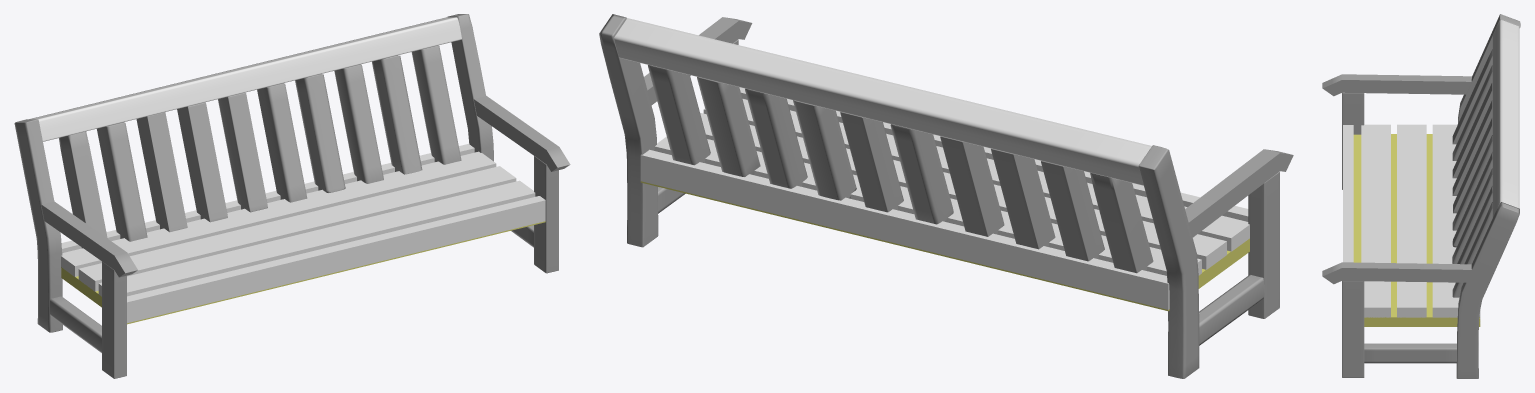
File: Banch.fbx
3 renders of one model, left to right at view 1: azimuth 30°, elevation 25°; view 2: azimuth 150°, elevation 25°; view 3: azimuth 270°, elevation 25°, orthographic. The views are drawn at different scales.
Parts seen in each view (by area): view 1: pCube31, pCube7, pCube6, pCube5, pCube3, pCube16, pCube30, pCube8, pCube4; view 2: pCube31, pCube8, pCube16, pCube3, pCube6, pCube5, pCube4, pCube7, pCube30; view 3: pCube31, pCube5, pCube6, pCube4, pCube3, pCube30, pCube16, pCube7.
Part boxes in pixels (box(x1,y1,x2,y2)): pCube31: box(14, 14, 558, 378); pCube7: box(127, 196, 545, 323); pCube6: box(98, 180, 535, 296); pCube5: box(78, 166, 516, 291); pCube3: box(61, 151, 496, 276); pCube16: box(41, 201, 137, 277); pCube30: box(474, 95, 570, 171); pCube8: box(61, 143, 474, 252); pCube4: box(61, 221, 545, 324); pCube31: box(599, 14, 1279, 378); pCube8: box(640, 149, 1169, 309); pCube16: box(1185, 149, 1293, 237); pCube3: box(654, 136, 1201, 275); pCube6: box(703, 99, 1249, 251); pCube5: box(700, 112, 1226, 269); pCube4: box(640, 181, 1249, 311); pCube7: box(739, 87, 1248, 221); pCube30: box(644, 17, 752, 105); pCube31: box(1342, 14, 1520, 378); pCube5: box(1397, 124, 1426, 317); pCube6: box(1361, 124, 1390, 317); pCube4: box(1353, 134, 1480, 326); pCube3: box(1432, 124, 1459, 317); pCube30: box(1322, 262, 1475, 284); pCube16: box(1322, 74, 1471, 96); pCube7: box(1343, 125, 1353, 262).
Bounding box in the file's own units: 13.76 × 5.7 × 5.95.
